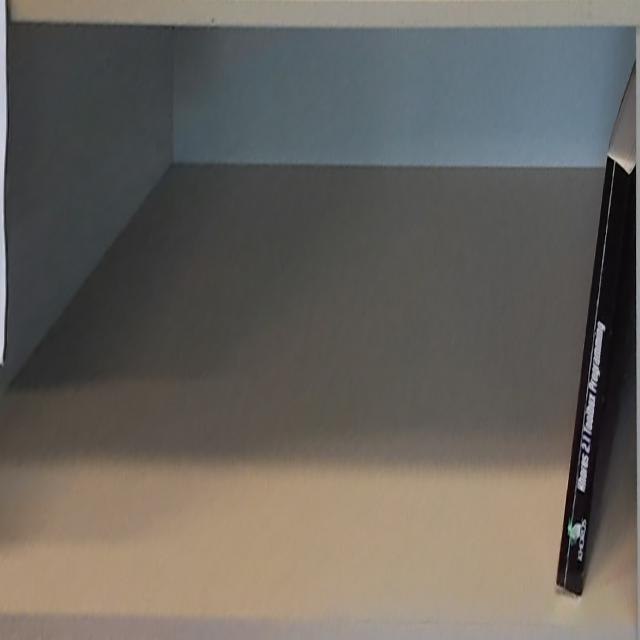Book Spine: (555, 155, 631, 595)
